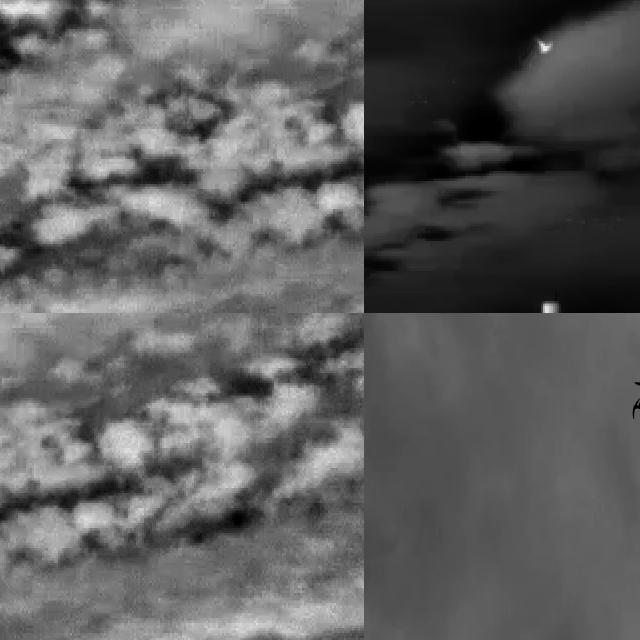0: (525, 32, 553, 65), (605, 211, 629, 236)
drone: (627, 375, 640, 433)
